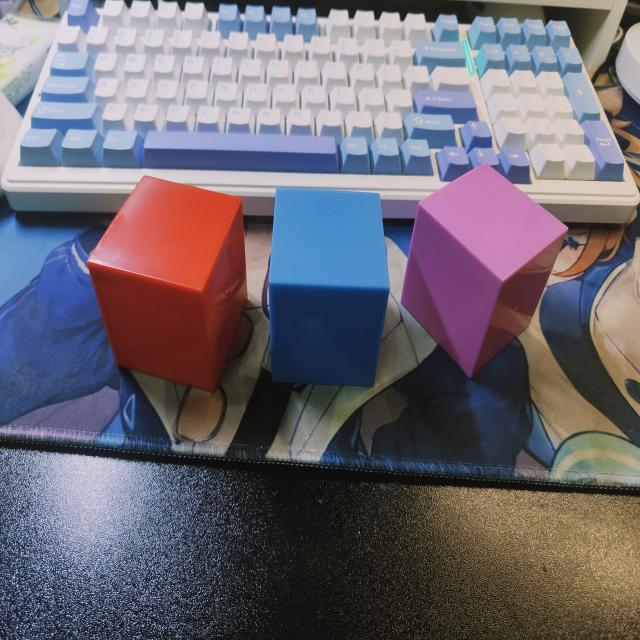blue: (267, 185, 389, 390)
pink: (399, 165, 569, 381)
red: (86, 178, 248, 390)
